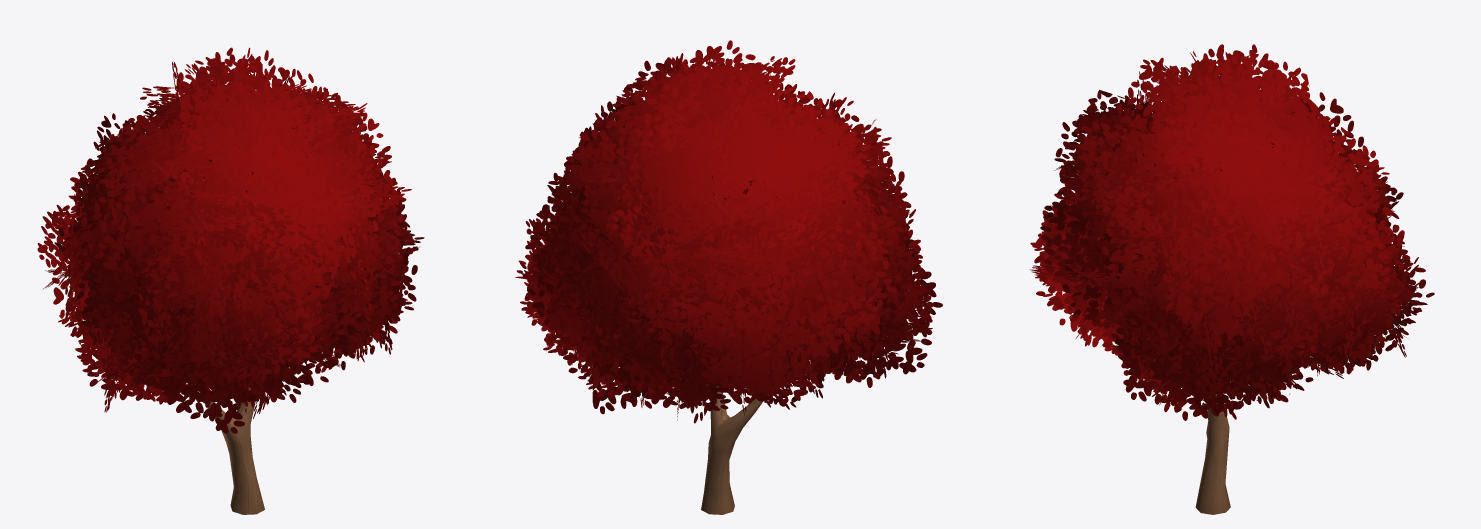
File: foliage tree.fbx
3 renders of one model, left to right at view 1: azimuth 30°, elevation 25°; view 2: azimuth 150°, elevation 25°; view 3: azimuth 270°, elevation 25°, orthographic.
Parts seen in each view (by area): view 1: Foliage tree.002; view 2: Foliage tree.002; view 3: Foliage tree.002.
Boxes of the visible parts, <box> form: Foliage tree.002: <box>37,47,424,514</box>; Foliage tree.002: <box>515,40,942,514</box>; Foliage tree.002: <box>1029,44,1434,514</box>.
Bounding box in the file's own units: 373 × 418 × 374.
2 materials, 1 textured.
